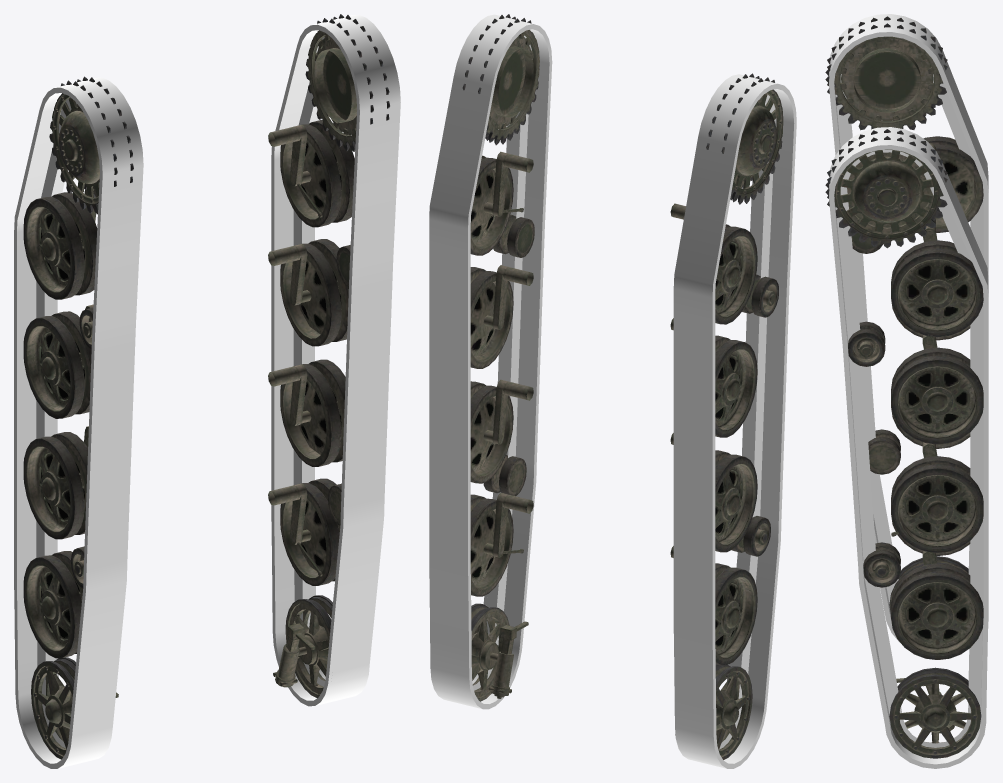
The model's file is Chassis.glb.
The picture shows the model from 3 angles, left to right: view 1: azimuth 30°, elevation 25°; view 2: azimuth 150°, elevation 25°; view 3: azimuth 270°, elevation 25°; orthographic projection. The views are drawn at different scales.
Parts seen in each view (by area): view 1: set_0_group_0, set_1_group_0, set_3_group_0, set_2_group_0; view 2: set_0_group_0, set_1_group_0, set_3_group_0, set_2_group_0; view 3: set_3_group_0, set_1_group_0, set_2_group_0, set_0_group_0.
Boxes of the visible parts, box(x1,y1,x2,y2) form: set_0_group_0: box(14, 77, 143, 768); set_1_group_0: box(271, 14, 400, 706); set_3_group_0: box(268, 14, 389, 697); set_2_group_0: box(23, 76, 133, 759); set_0_group_0: box(673, 74, 796, 768); set_1_group_0: box(429, 14, 552, 709); set_3_group_0: box(462, 14, 539, 701); set_2_group_0: box(670, 73, 783, 759); set_3_group_0: box(825, 129, 983, 758); set_1_group_0: box(829, 127, 988, 768); set_2_group_0: box(825, 16, 983, 613); set_0_group_0: box(829, 14, 988, 642).
Size of the model in its own units: 2.09 by 4.63 by 1.09.
4 materials, 2 textured.
